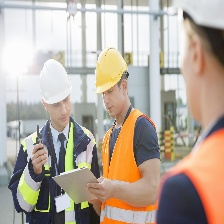helmet: (174, 1, 224, 47), (37, 61, 78, 111), (93, 50, 130, 99)
person: (16, 58, 102, 224), (88, 46, 164, 224), (171, 1, 224, 224)
vest: (97, 113, 166, 224), (20, 139, 98, 220), (175, 126, 224, 224)
